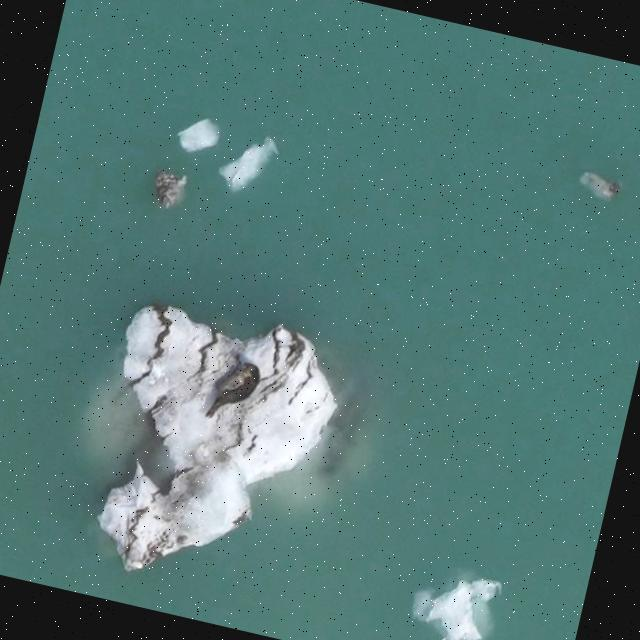seal: (204, 354, 266, 431), (217, 362, 252, 398)
